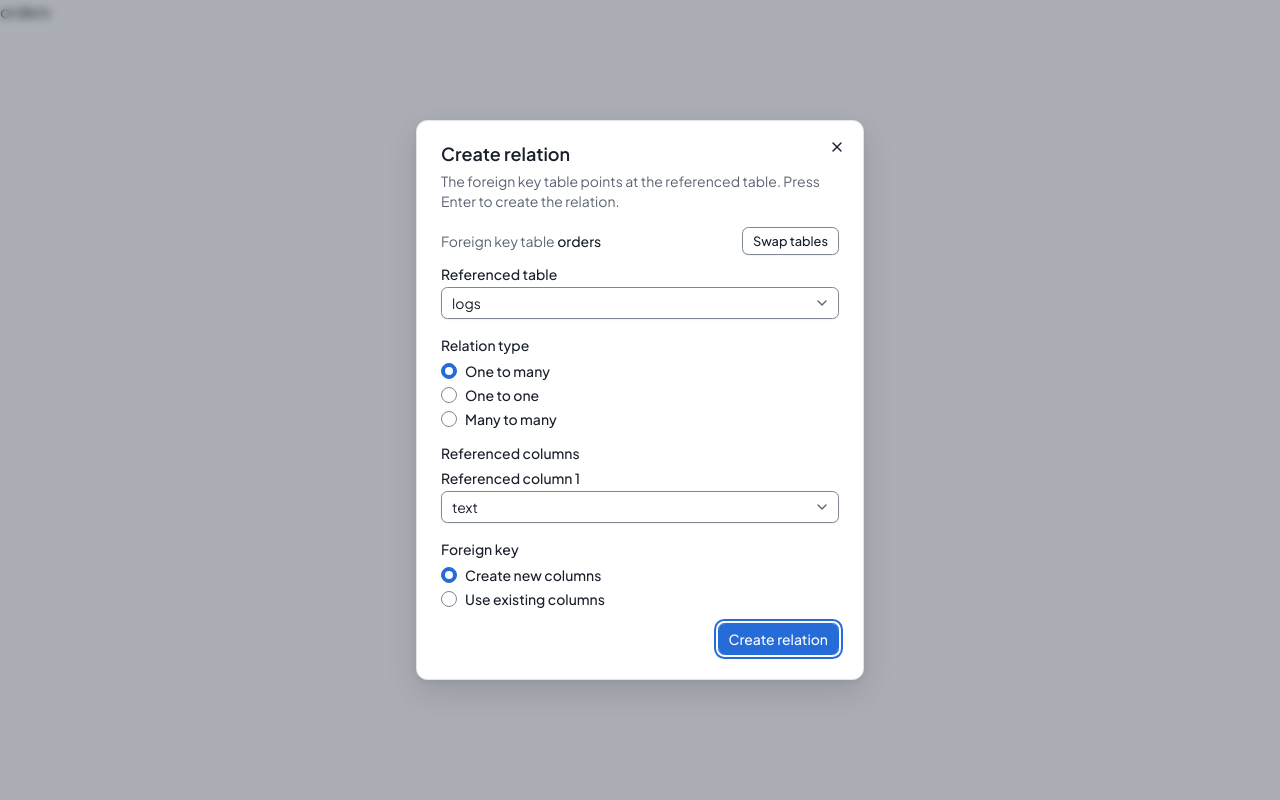
Test: CreateRelationDialog › blocks many-to-many when a table has no primary key
What coordinates should you click on to do the following:
click the radio button named "Many to many" next to "Many to many"
I would click on:
 (449, 419)
Its box is [441,411,457,427].
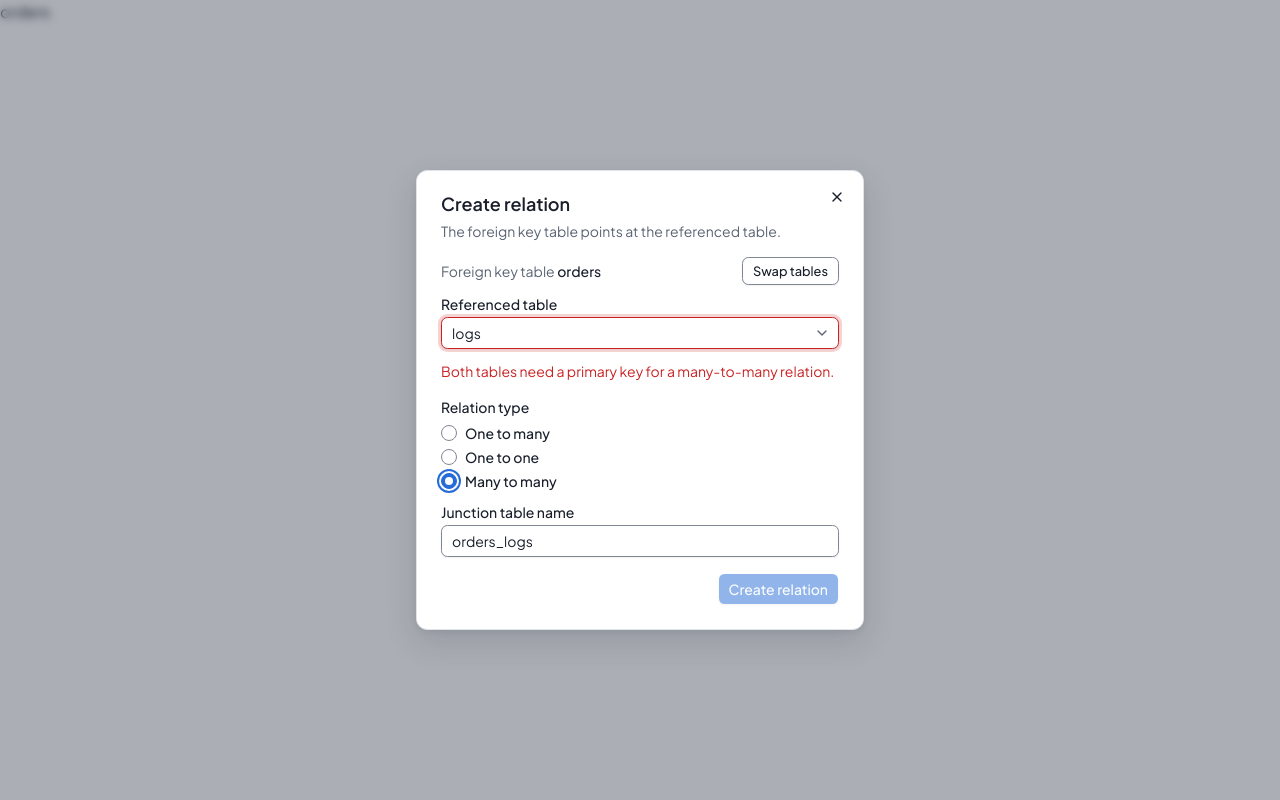
Result: the button "Create relation" is disabled at [718,573,839,605]
